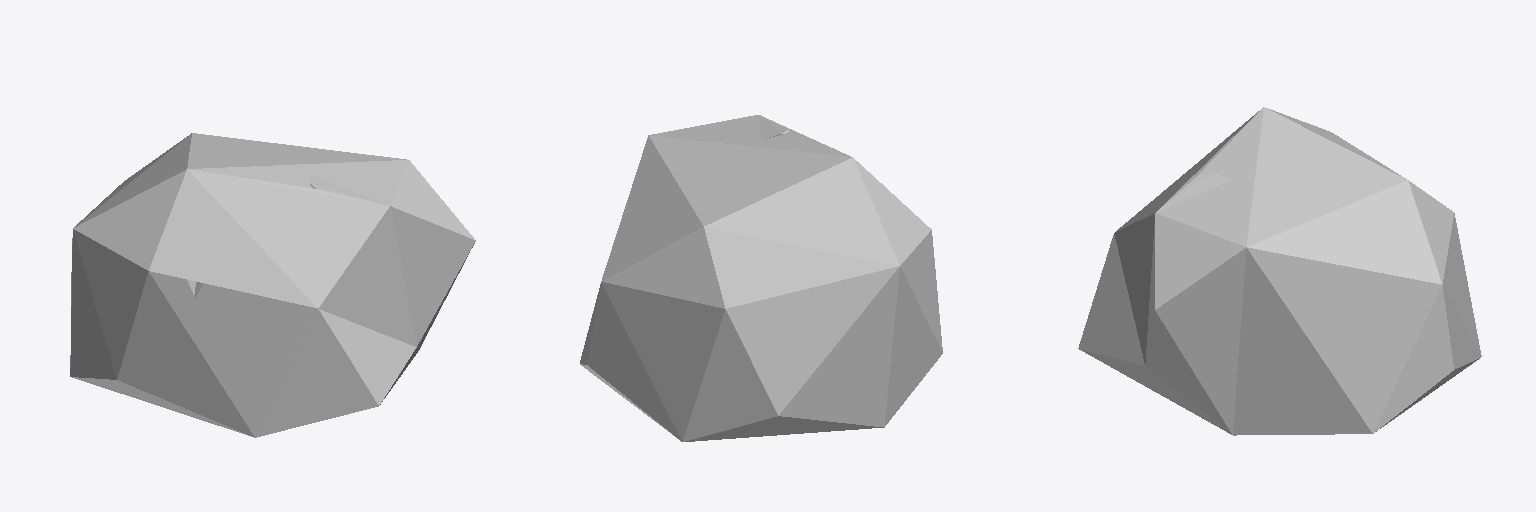
Rendered from Rock_4.obj.
3 renders of one model, left to right at view 1: azimuth 30°, elevation 25°; view 2: azimuth 150°, elevation 25°; view 3: azimuth 270°, elevation 25°, orthographic.
Parts seen in each view (by area): view 1: Rock_4_Icosphere.006; view 2: Rock_4_Icosphere.006; view 3: Rock_4_Icosphere.006.
Part boxes in pixels (x1,y1,x2,y2): Rock_4_Icosphere.006: (70,133,475,437); Rock_4_Icosphere.006: (580,115,942,441); Rock_4_Icosphere.006: (1078,107,1481,435).
Size of the model in its own units: 0.8916 by 0.6027 by 0.9887.